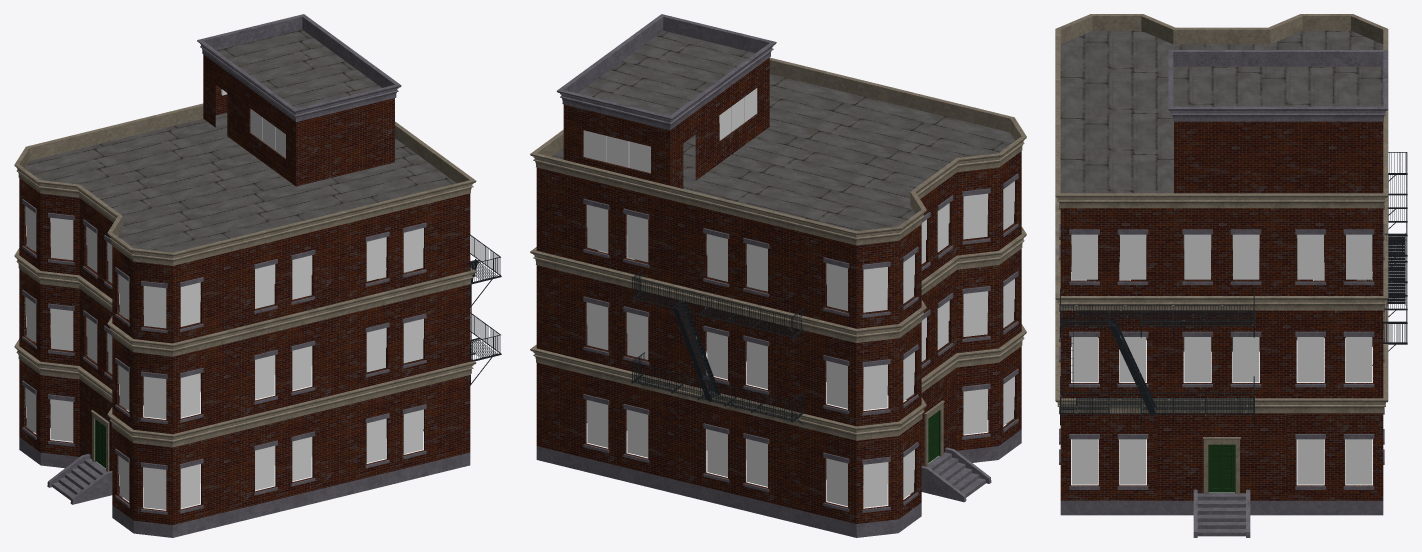
File: Building_24.fbx
The picture shows the model from 3 angles, left to right: view 1: azimuth 30°, elevation 25°; view 2: azimuth 150°, elevation 25°; view 3: azimuth 270°, elevation 25°; orthographic projection. The views are drawn at different scales.
Parts seen in each view (by area): view 1: Building_24_LOD0; view 2: Building_24_LOD0; view 3: Building_24_LOD0.
Part boxes in pixels (x1=…): Building_24_LOD0: x1=14, y1=14, x2=501, y2=537; Building_24_LOD0: x1=530, y1=14, x2=1026, y2=537; Building_24_LOD0: x1=1055, y1=14, x2=1407, y2=537.
Size of what is drawn, in the model's own units: 1870 by 1646 by 1330.
